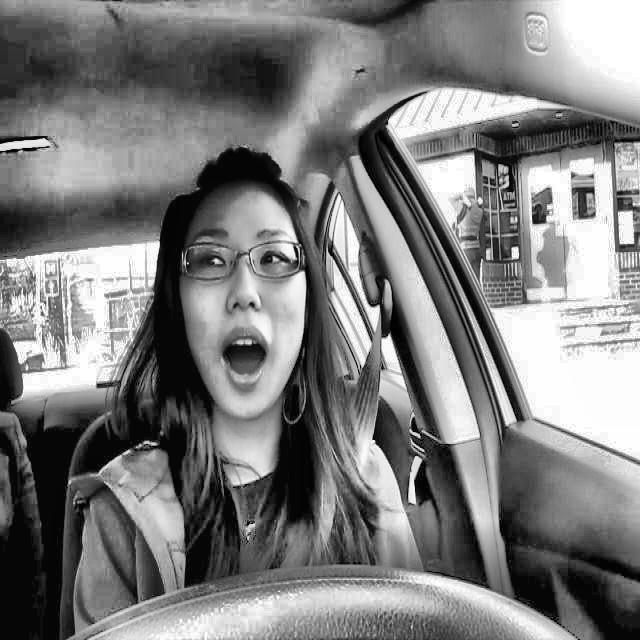open_eyes: (249, 244, 303, 276), (183, 247, 233, 279)
open_mouth: (206, 321, 284, 399)
